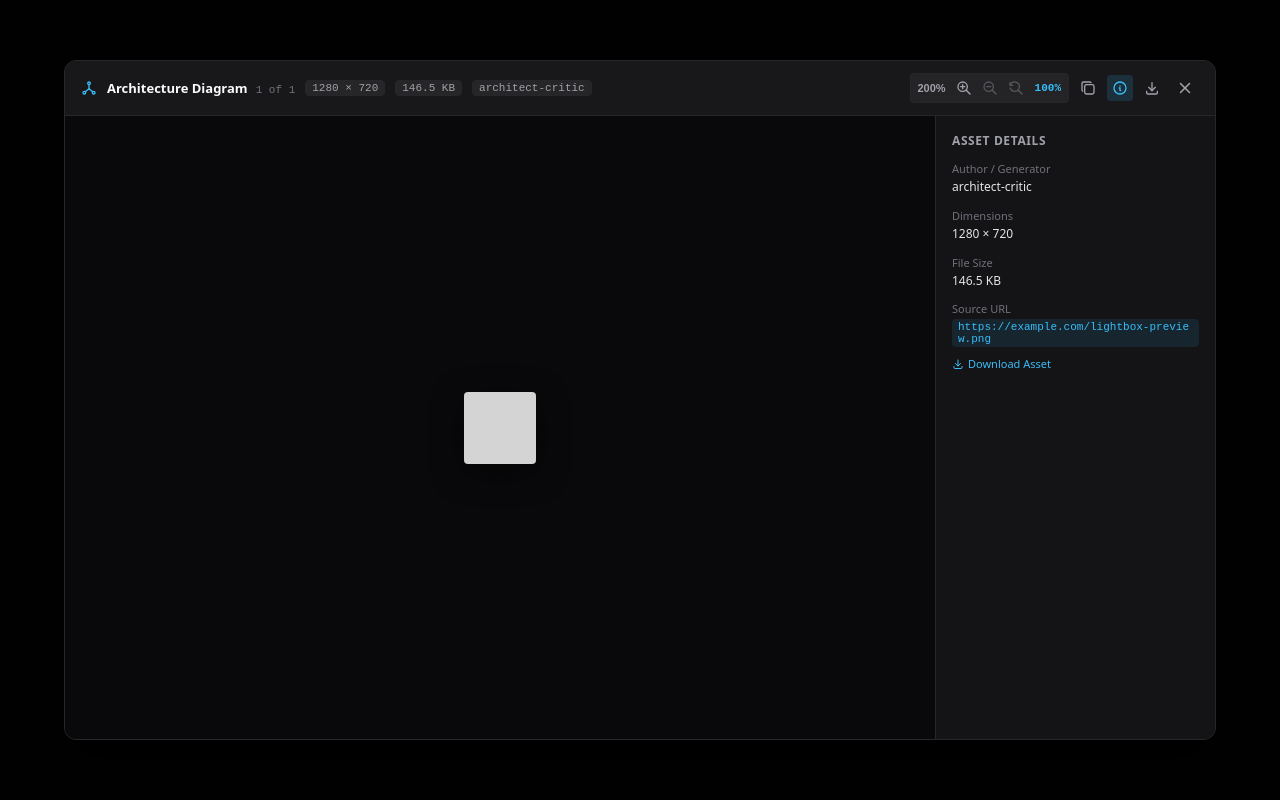
Scenario: NodeDetailDrawer tests › Round 4: GVUI NodeDetailDrawer Validator View & Rich Asset Experience › LightboxDialog zoom toggle between 100% and 200%, keyboard shortcut Z, and copy URL
The image size is (1280, 800).
What coordinates should you click on to do the following:
click the button "200%"
I would click on:
 (932, 88)
Its box is top-left (912, 77), bottom-right (951, 99).
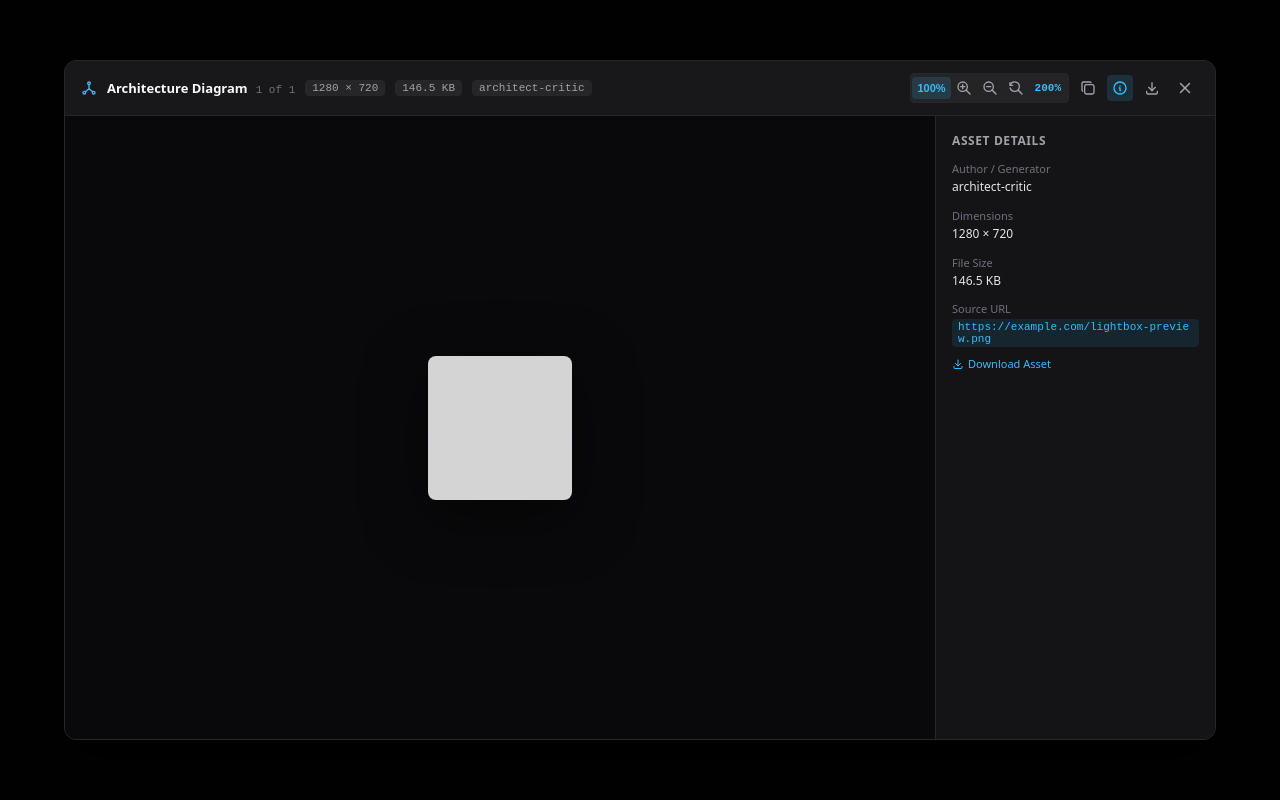
Expected: the button named "Copy asset URL" is shown, top-left (1075, 75), bottom-right (1101, 101)
Now the text "200%" is shown, box top-left (1035, 82), bottom-right (1061, 94)
